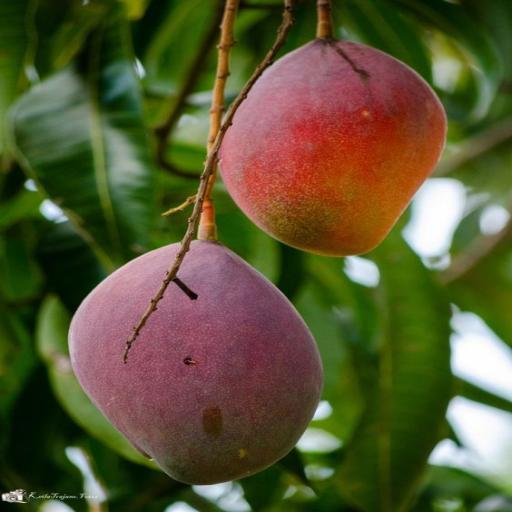mango: (70, 241, 322, 484), (220, 40, 446, 256)
